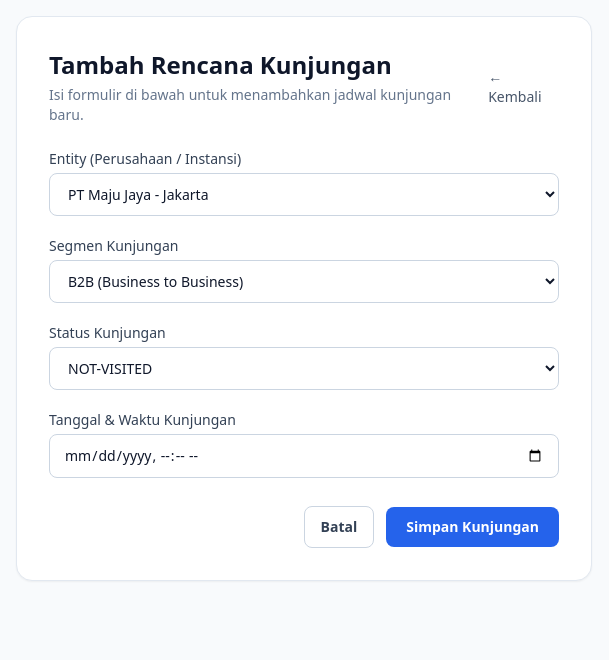
Test case: TambahPengunjungPage (Halaman Tambah Rencana Kunjungan) › 2. Validasi Input (Client-side Validation) › menampilkan pesan error validasi dan tidak memanggil API POST ketika field Tanggal Kunjungan masih kosong
Expected: the dropdown labelled "Entity (Perusahaan / Instansi)" shows "PT Maju Jaya - Jakarta", [49,173,559,216]
What coordinates should you click on to do the following:
click the button "Simpan Kunjungan"
I would click on:
 (473, 527)
Its box is [386,507,559,547].
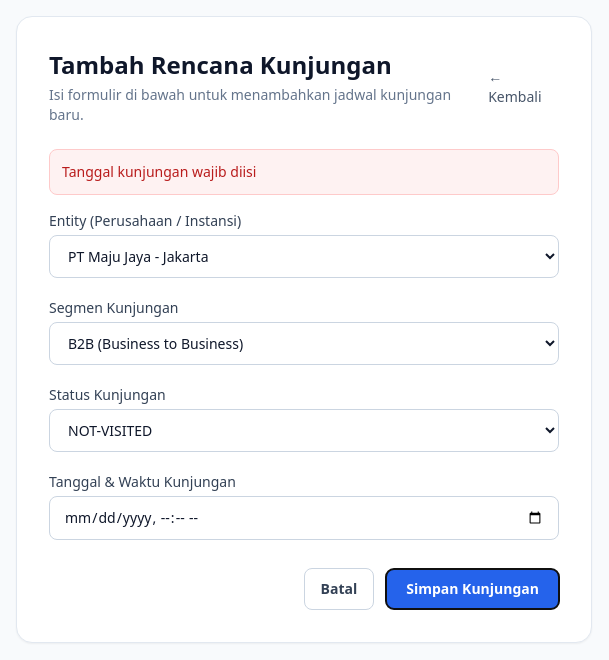
Now the message reads "Tanggal kunjungan wajib diisi", box [62,162,256,181]
